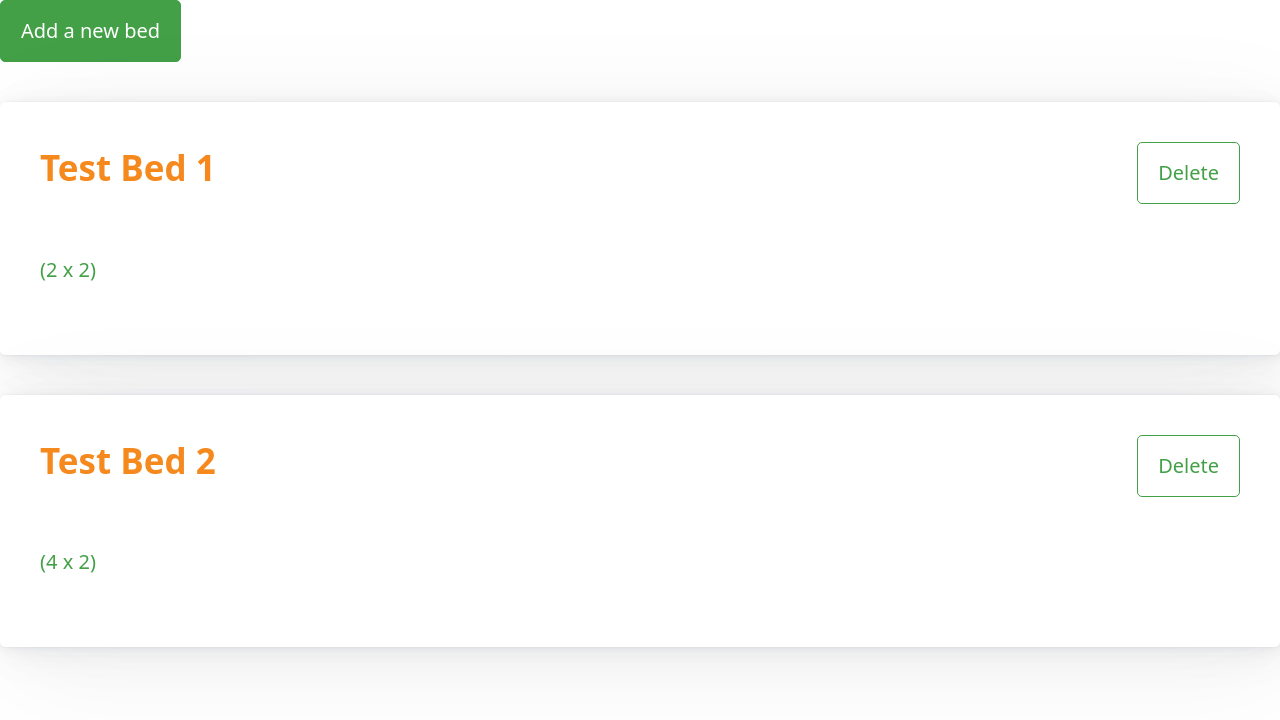
Test: Home › If a user clicks the delete button on the first bed, then the bed is removed from the page
The width and height of the screenshot is (1280, 720).
Click the button "Delete" in the row of "Test Bed 1": (1189, 173) [1137, 142, 1240, 204]
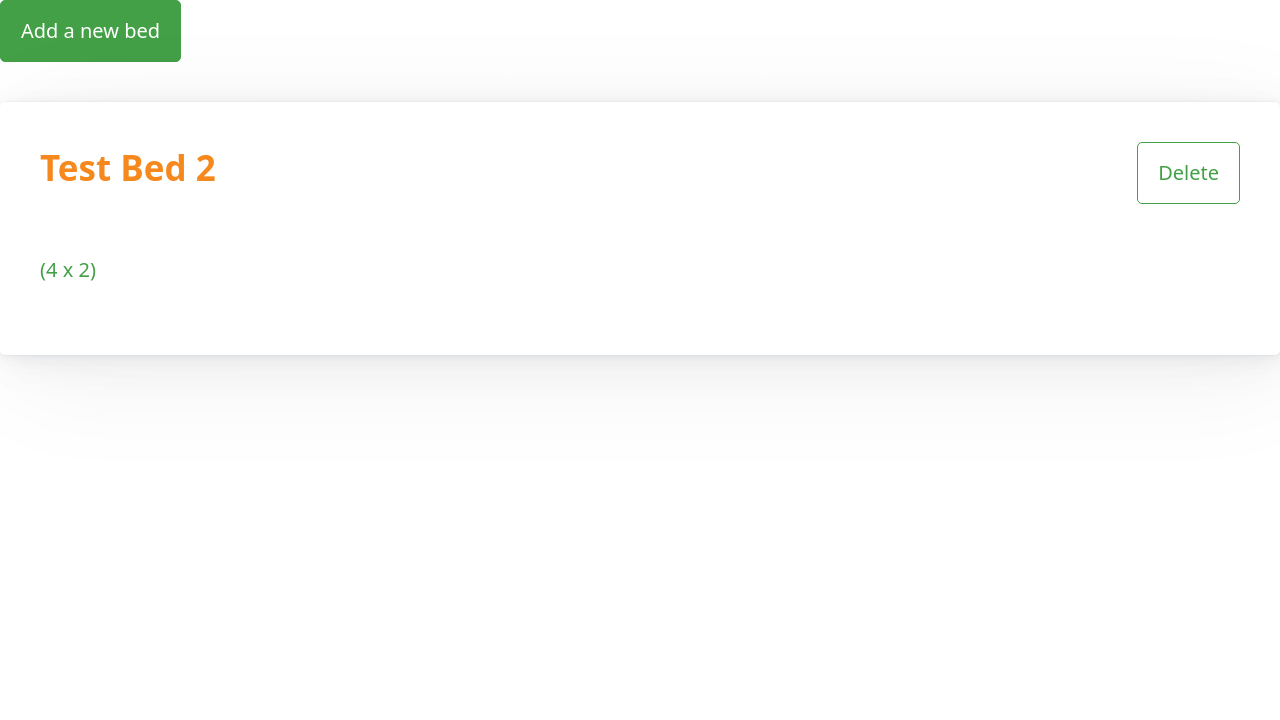
Check: the heading "Test Bed 2" is shown, box [40, 144, 216, 191]
Check: the link "Test Bed 1" is gone
